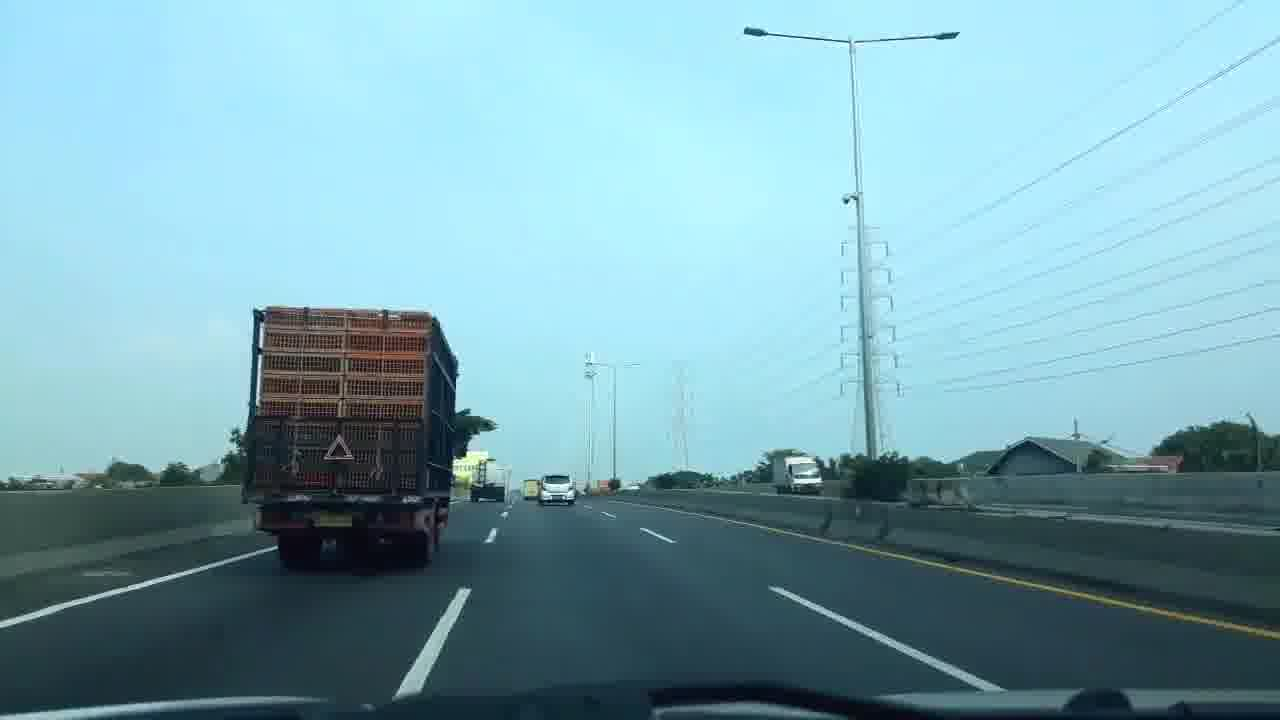plate_positive: (310, 512, 353, 527), (552, 495, 563, 500)
